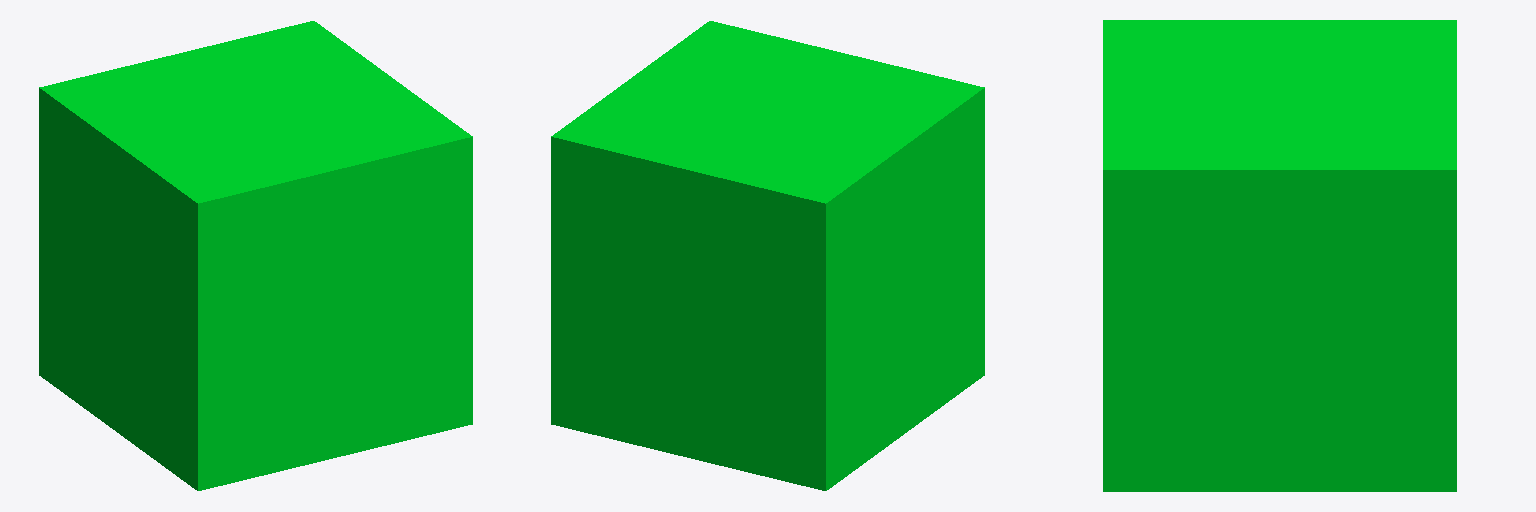
robot.urdf — cube:
<?xml version="0.0" ?>
<robot name="cube">
  <link name="cube">
    <contact>
      <lateral_friction value="0.7"/>
      <rolling_friction value="0.0"/>
      <contact_cfm value="0.0"/>
      <contact_erp value="0.1"/>
    </contact>
    <inertial>
      <origin rpy="0 0 0" xyz="0 0 0"/>
       <mass value=".0"/>
       <inertia ixx=".01" ixy="0" ixz="0" iyy=".01" iyz="0" izz=".01"/>
    </inertial>
    <visual>
      <origin rpy="0 0 0" xyz="0.0 0.0 0.0"/>
      <geometry>
        <box size="0.05 0.05 0.05"/>
      </geometry>
      <material name="desert sand">
        <color rgba="0. 0.9 0.2 0.5" />
      </material>
    </visual>
    <!-- <collision>
      <origin rpy="0 0 0" xyz="0.0 0.0 0.0"/>
      <geometry>
        <box size="0.05 0.05 0.05"/>
      </geometry>
    </collision> -->
  </link>


</robot>

--- What the picture shows (computed from the rendered views, not written in the file) ---
The picture shows the robot from 3 angles, left to right: view 1: azimuth 30°, elevation 25°; view 2: azimuth 150°, elevation 25°; view 3: azimuth 270°, elevation 25°; orthographic projection.
Model cube with 1 links and 0 joints (none), rooted at cube, posed every joint at zero.
Visible links, largest first — view 1: cube; view 2: cube; view 3: cube.
Boxes of the visible links, x1,y1,x2,y2 form: cube: (39, 21, 472, 490); cube: (551, 21, 984, 490); cube: (1103, 20, 1456, 491).
Size in the robot's own frame: 0.05 by 0.05 by 0.05 metres.
Geometry: primitives only (box / cylinder / sphere), no mesh files.